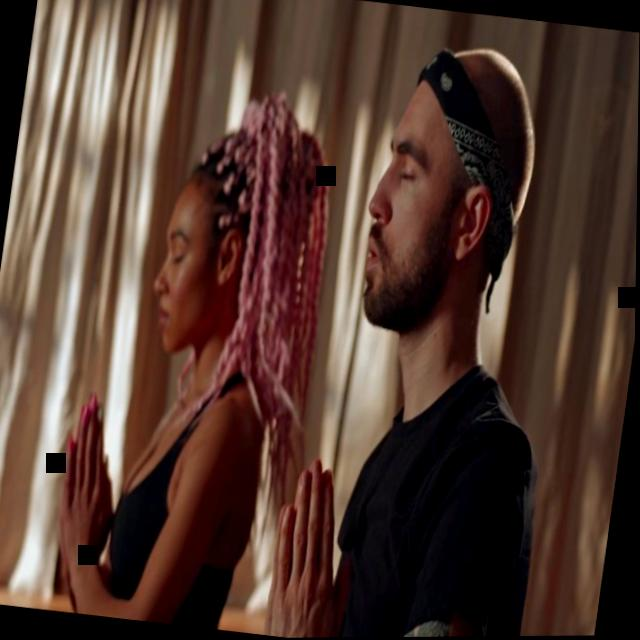NO-Mask: (352, 92, 480, 337), (144, 199, 226, 361)
